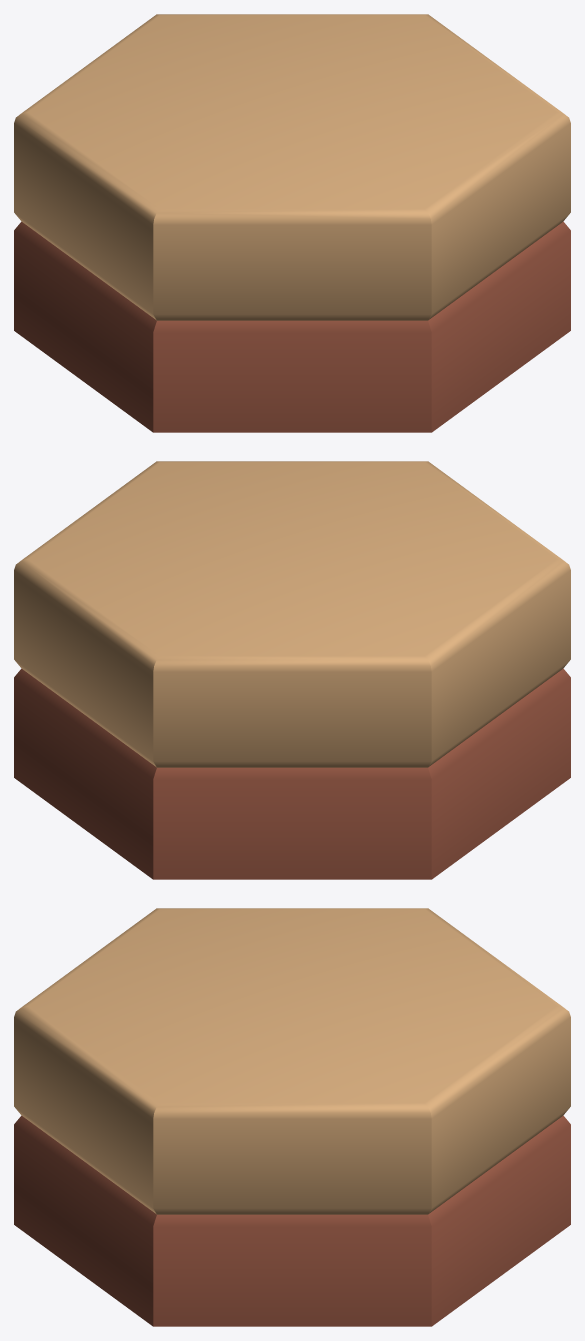
Rendered from hex_sand_detail.glb.
3 views of the same model, one above another, from view 1: azimuth 30°, elevation 25°; view 2: azimuth 150°, elevation 25°; view 3: azimuth 270°, elevation 25° (orthographic).
Parts seen in each view (by area): view 1: hex_sand_detail; view 2: hex_sand_detail; view 3: hex_sand_detail.
Part boxes in pixels (x1,y1,x2,y2): hex_sand_detail: [14, 14, 570, 432]; hex_sand_detail: [14, 461, 570, 879]; hex_sand_detail: [14, 908, 570, 1326].
Size of the model in its own units: 2 by 1 by 2.31.
